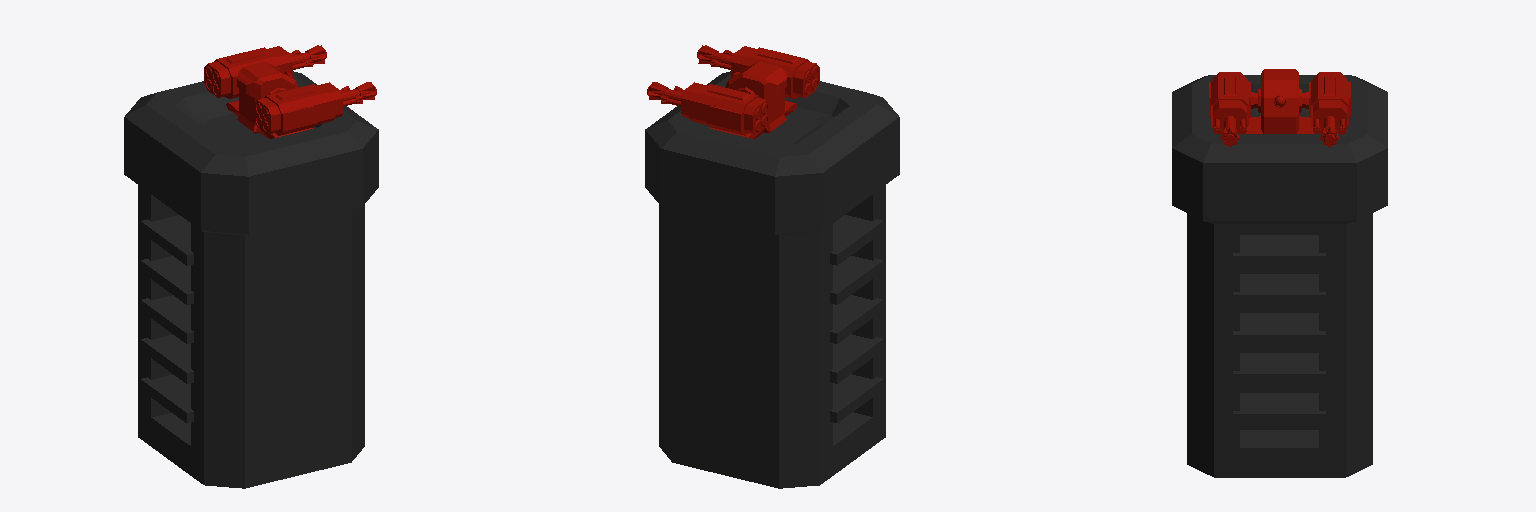
Rendered from tower.obj.
3 views of the same model, side by side, from view 1: azimuth 30°, elevation 25°; view 2: azimuth 150°, elevation 25°; view 3: azimuth 270°, elevation 25° (orthographic).
Parts seen in each view (by area): view 1: Cube.001; view 2: Cube.001; view 3: Cube.001.
Boxes of the visible parts, <box> form: Cube.001: <box>124,45,378,488</box>; Cube.001: <box>645,45,899,488</box>; Cube.001: <box>1172,69,1387,477</box>.
Size of the model in its own units: 91.8 by 174 by 92.25.